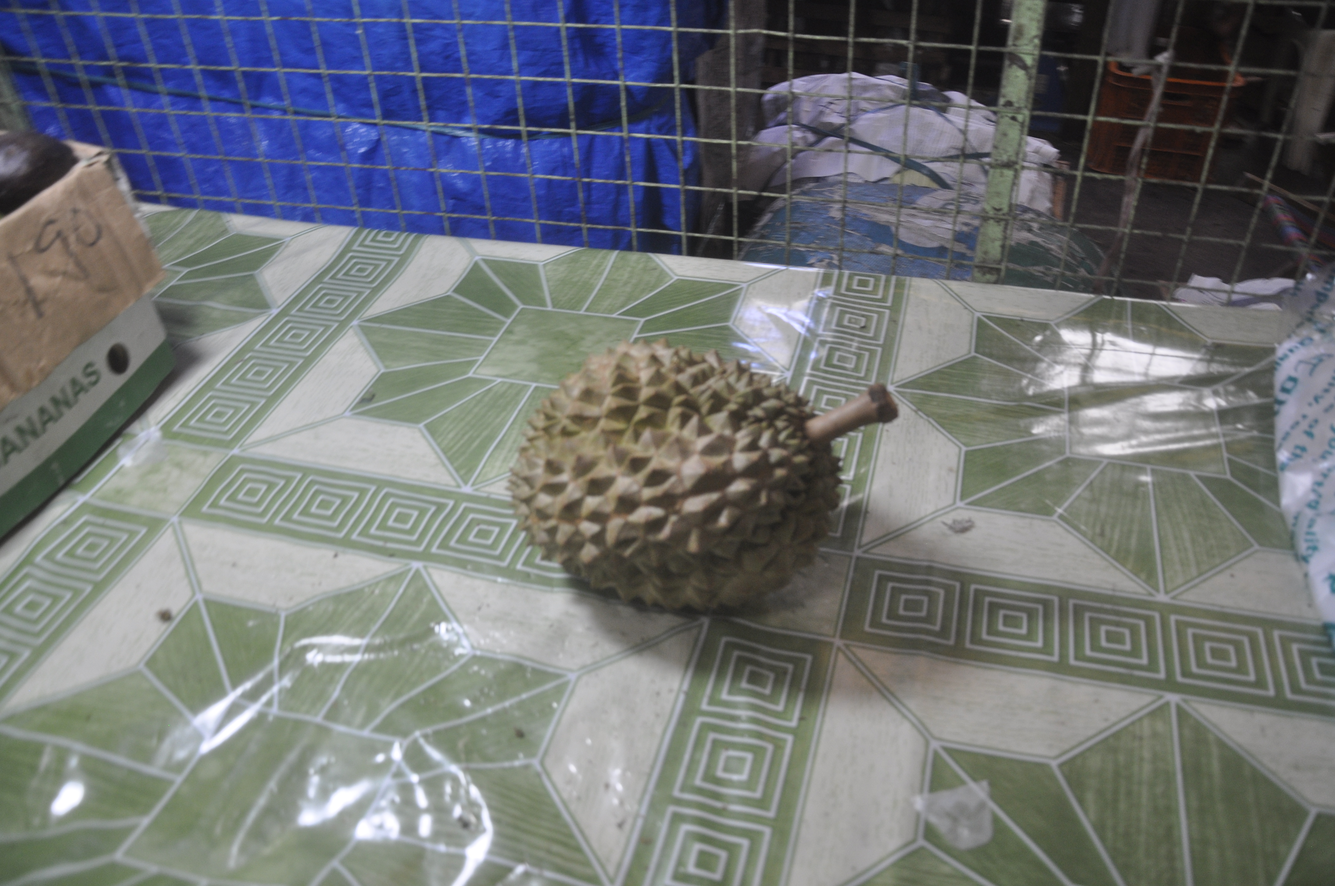mature: (508, 340, 897, 609)
